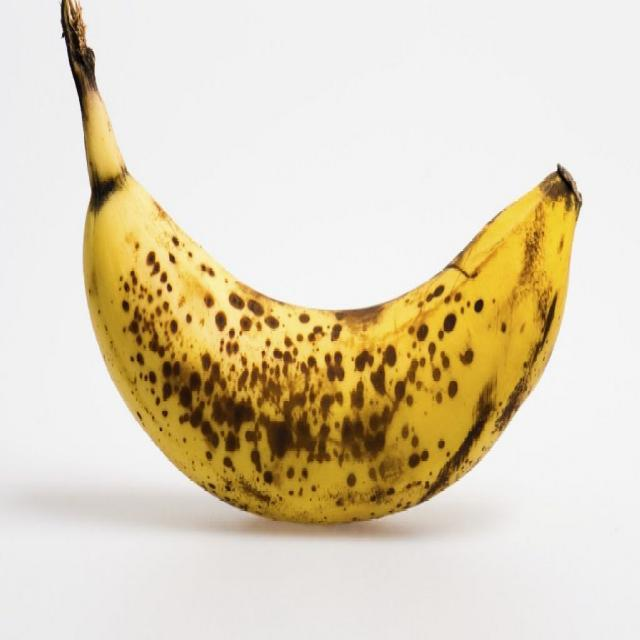Banana: (59, 1, 576, 528)
